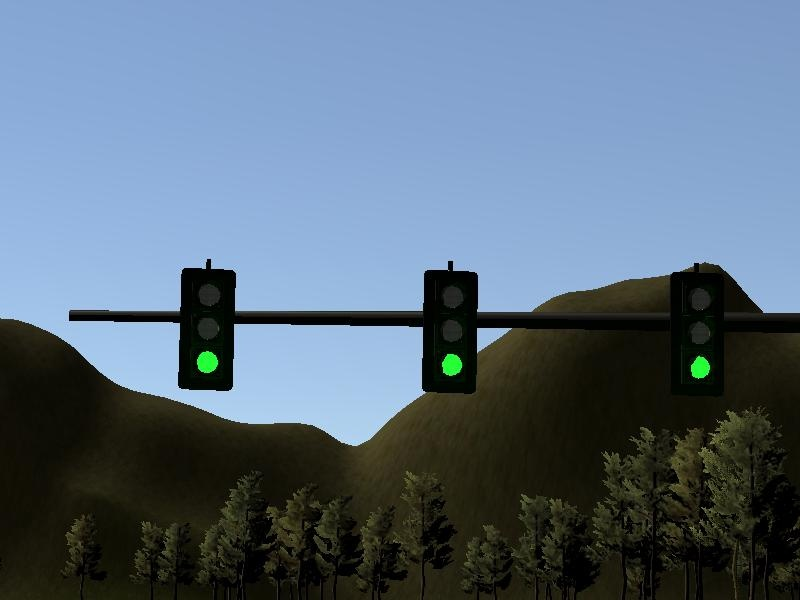GREEN: (421, 268, 479, 396), (177, 266, 235, 394), (672, 272, 725, 395)
